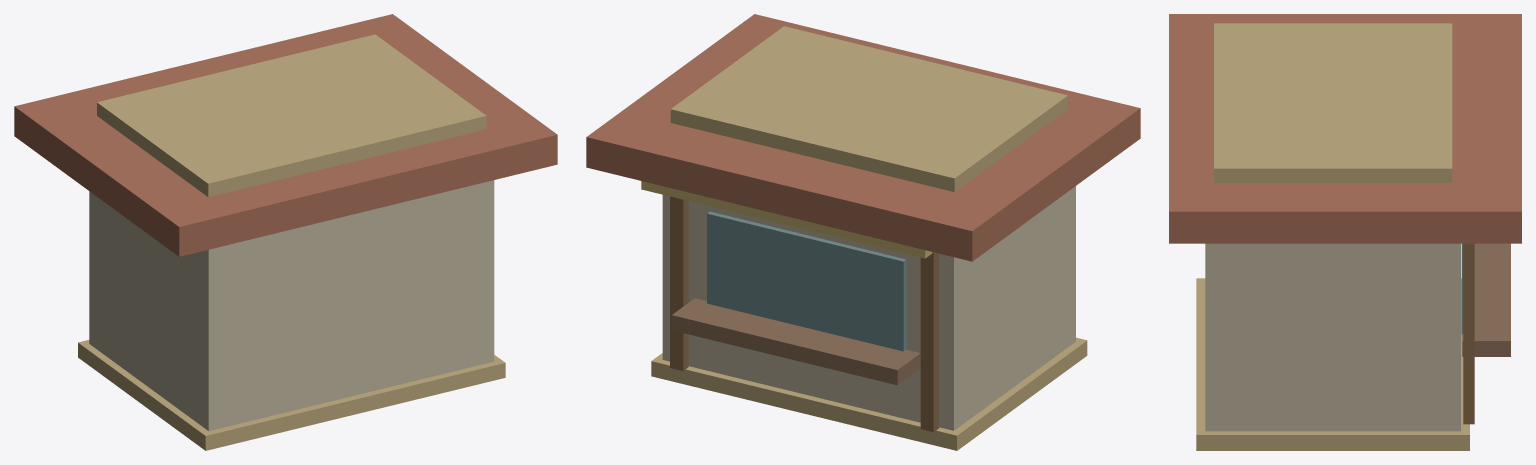
Rendered from mandalay-kiosk.glb.
3 renders of one model, left to right at view 1: azimuth 30°, elevation 25°; view 2: azimuth 150°, elevation 25°; view 3: azimuth 270°, elevation 25°, orthographic. The views are drawn at different scales.
Parts seen in each view (by area): view 1: body, awning, roof-cap, foundation; view 2: awning, roof-cap, body, front-window, foundation, counter, wood-post--1.72, wood-post-1.72, gold-sign; view 3: body, awning, roof-cap, foundation, counter, wood-post-1.72.
Part boxes in pixels (x1,y1,x2,y2): body: (89,180,494,430); awning: (14,14,557,256); roof-cap: (97,34,486,196); foundation: (78,340,505,450); awning: (586,14,1140,261); roof-cap: (670,26,1067,191); body: (662,186,1075,430); front-window: (707,211,906,351); foundation: (651,337,1087,450); counter: (671,298,920,385); wood-post--1.72: (920,252,939,432); wood-post-1.72: (670,196,688,370); gold-sign: (641,181,932,258); body: (1205,243,1460,431); awning: (1169,14,1521,243); roof-cap: (1214,23,1452,182); foundation: (1196,278,1469,450); counter: (1462,243,1510,356); wood-post-1.72: (1463,243,1474,424).
Bounding box in the file's own units: 5.3 × 3.46 × 4.
